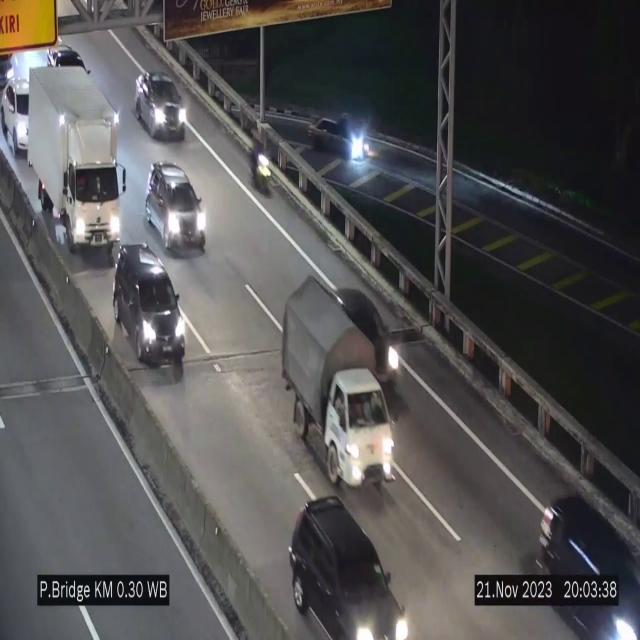Car: (527, 473, 640, 640), (287, 494, 413, 640), (112, 240, 188, 372), (336, 278, 400, 383), (142, 160, 208, 258), (310, 98, 378, 173), (135, 72, 187, 140), (3, 74, 39, 157)
Motorcycle: (248, 130, 272, 198)
Truck: (281, 270, 397, 497), (24, 61, 130, 255)
